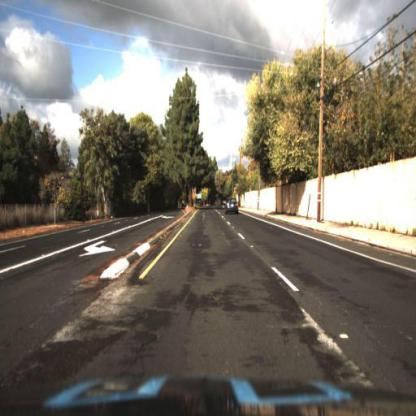car: (222, 198, 241, 218)
